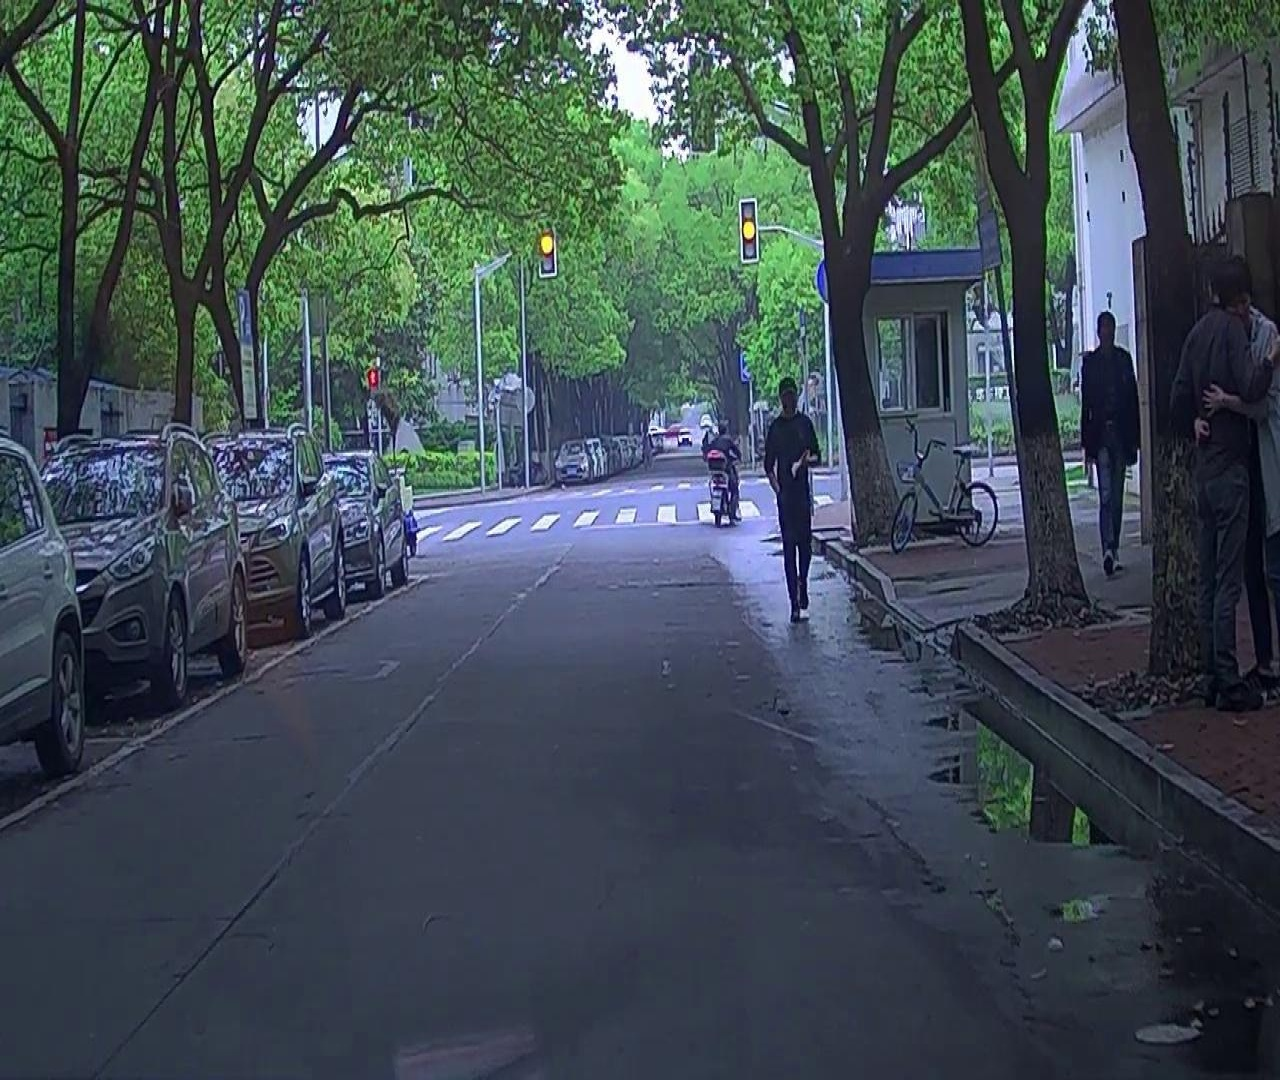yellow: (740, 204, 757, 261), (538, 226, 555, 276)
